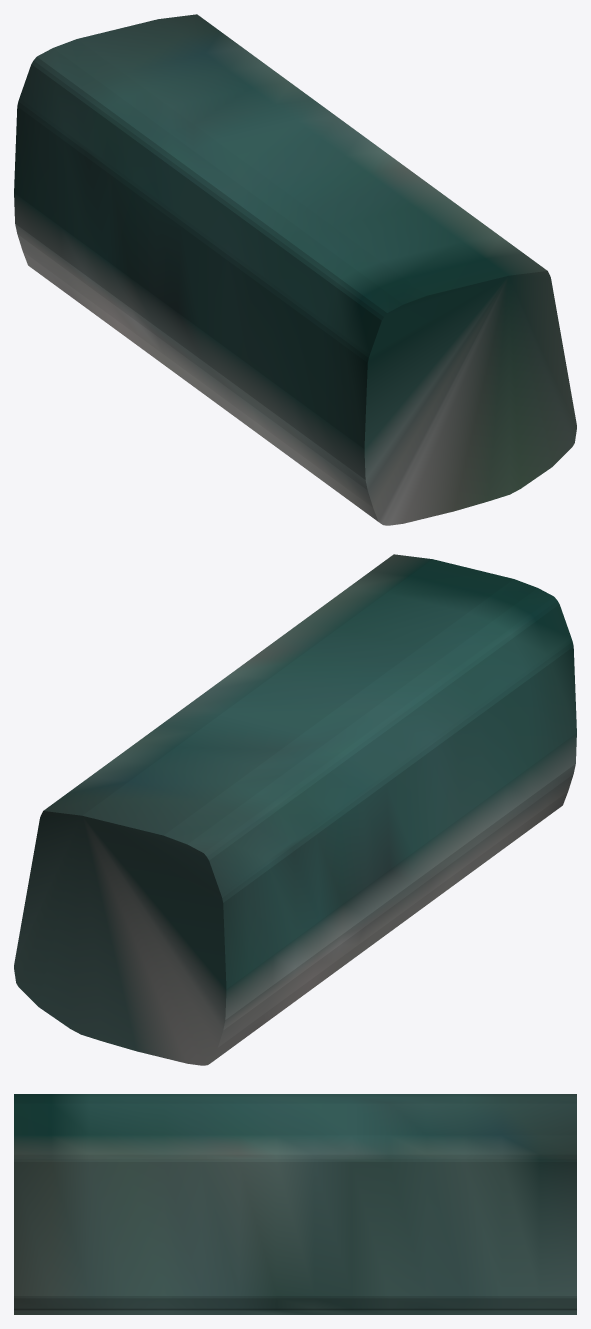
3 renders of one model, top to bottom at view 1: azimuth 30°, elevation 25°; view 2: azimuth 150°, elevation 25°; view 3: azimuth 270°, elevation 25°, orthographic. The views are drawn at different scales.
Parts seen in each view (by area): view 1: visual_mesh.obj; view 2: visual_mesh.obj; view 3: visual_mesh.obj.
Part boxes in pixels (x1,y1,x2,y2): visual_mesh.obj: (14,14,576,525); visual_mesh.obj: (14,554,576,1065); visual_mesh.obj: (14,1094,576,1314).
Bounding box in the file's own units: 0.07 × 0.07 × 0.2.
